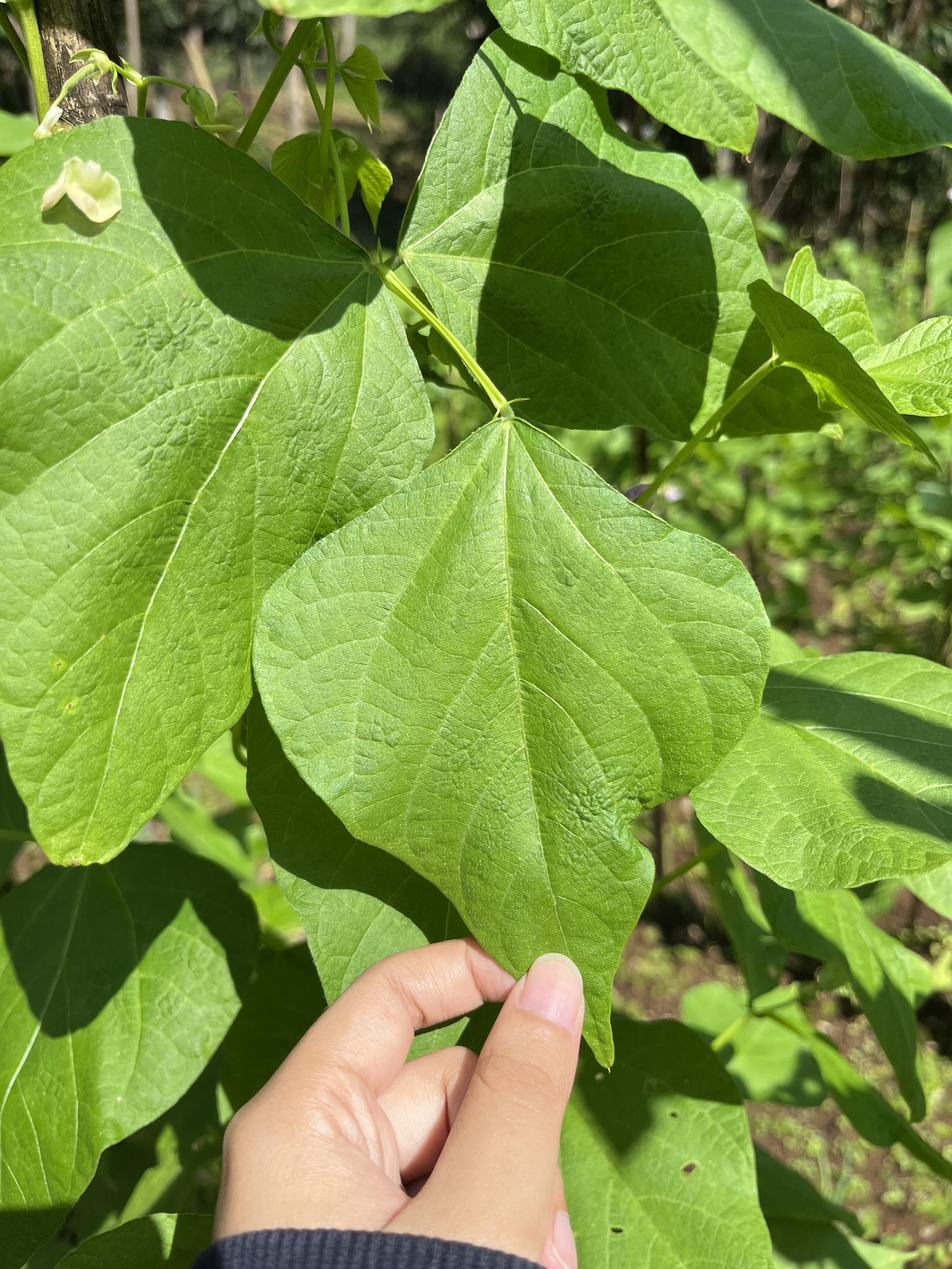sehat: (253, 413, 769, 1074)
